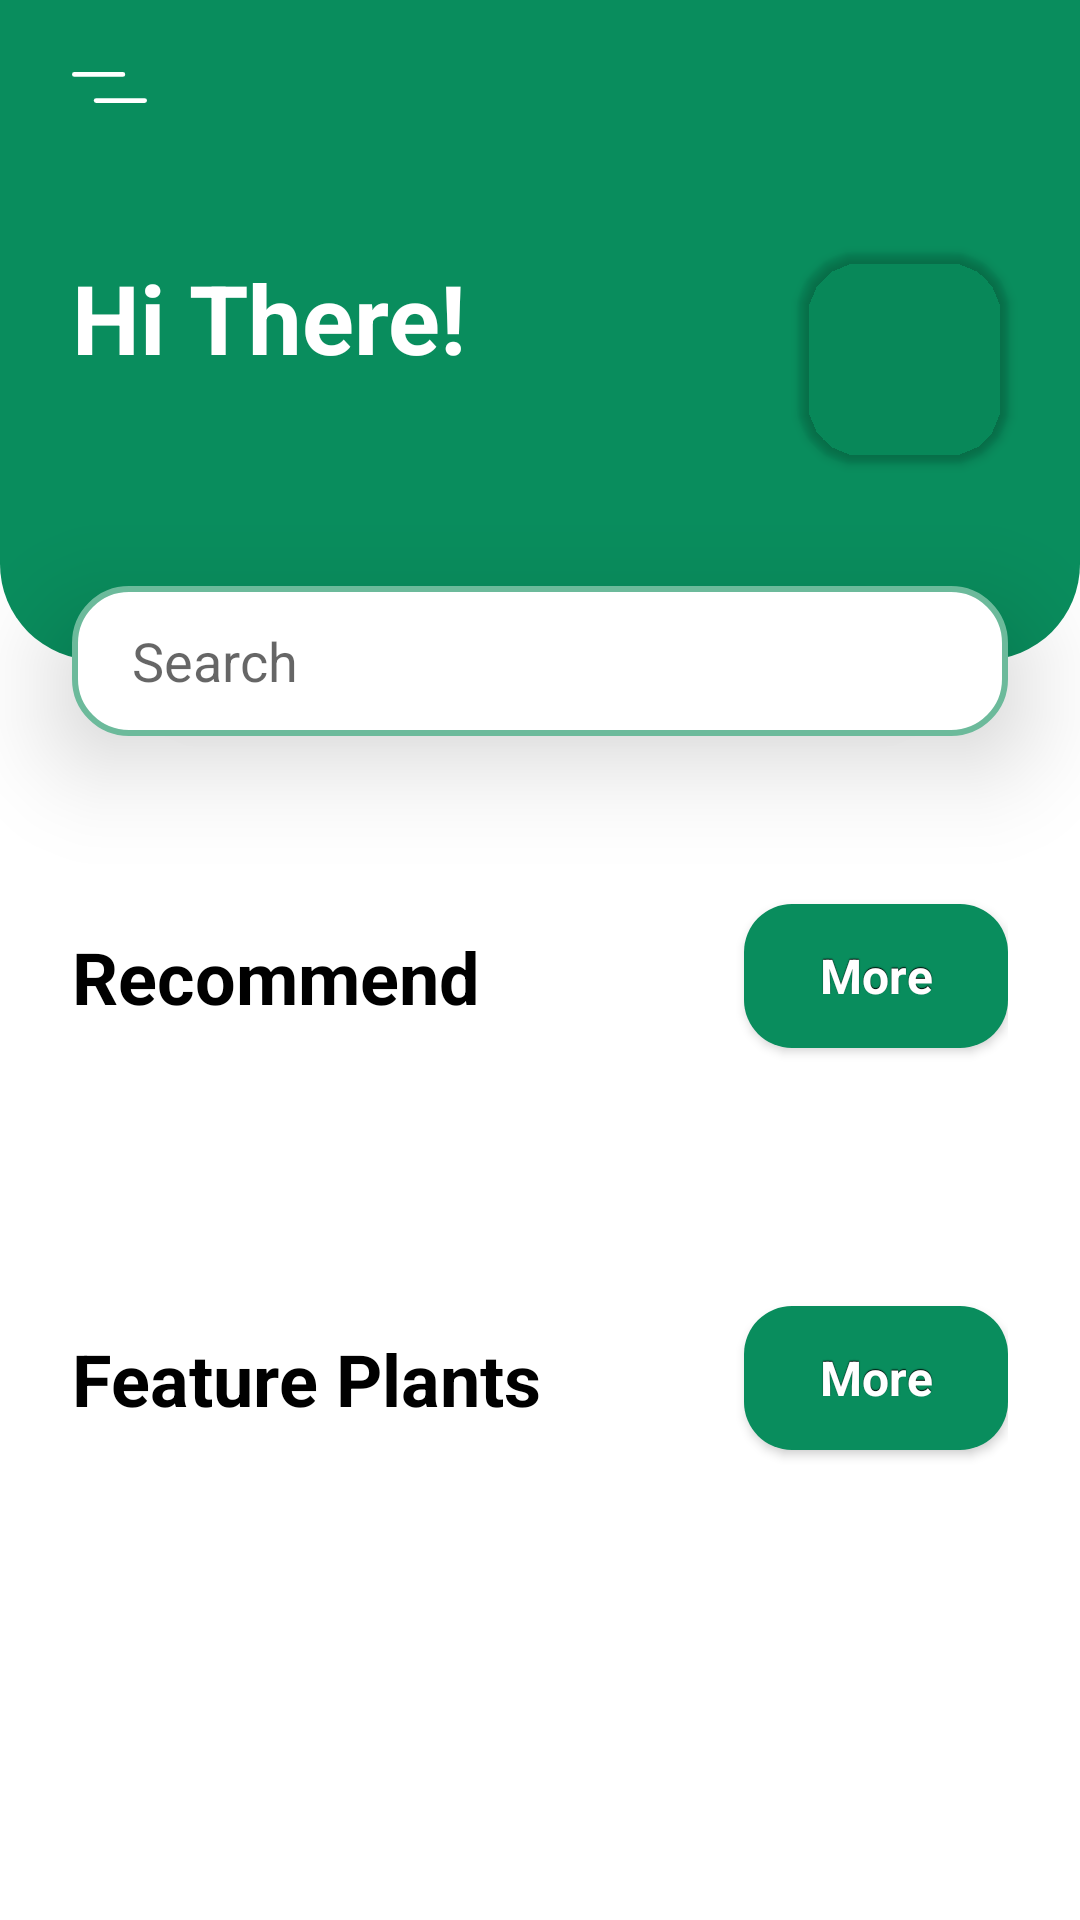

Icon bounding boxes for this 1080x1920 phone screenshot, format box(x1, y1, x2, y2):
menu: box(72, 72, 147, 103)
